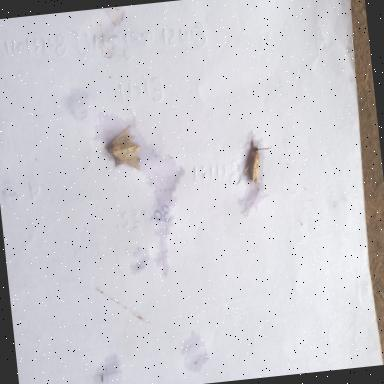pbw: (103, 124, 145, 174), (240, 145, 276, 188)
